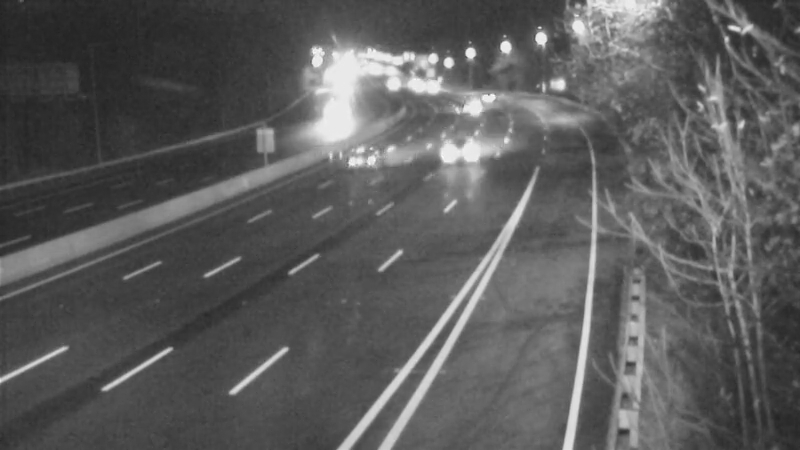vehicle: (417, 112, 497, 192), (327, 118, 407, 198), (467, 69, 517, 119), (445, 85, 495, 135), (310, 102, 360, 152)
